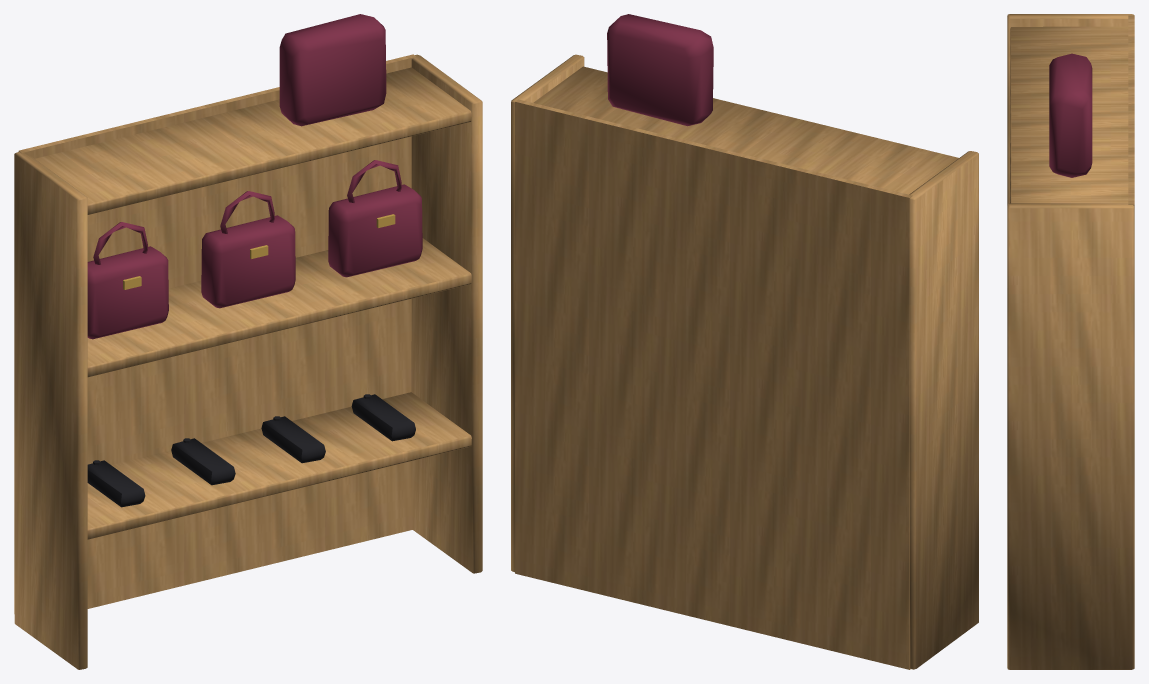
File: prateleira-de-bolsas-leve.glb
3 renders of one model, left to right at view 1: azimuth 30°, elevation 25°; view 2: azimuth 150°, elevation 25°; view 3: azimuth 270°, elevation 25°, orthographic.
Parts seen in each view (by area): view 1: fundo, lateral, lateral.001, tabua.002, tabua, tabua.001, bolsa-grande, bolsa.002, bolsa.001, bolsa, sapato.001, sapato.002 (+2 smaller); view 2: fundo, lateral, tabua.002, bolsa-grande, lateral.001; view 3: lateral.001, tabua.002, bolsa-grande, lateral, fundo.
Boxes of the visible parts, x1,y1,x2,y2 form: fundo: [18, 54, 416, 608]; lateral: [14, 151, 87, 669]; lateral.001: [411, 54, 482, 573]; tabua.002: [35, 67, 471, 214]; tabua: [87, 392, 471, 539]; tabua.001: [87, 238, 471, 377]; bolsa-grande: [279, 14, 386, 126]; bolsa.002: [328, 184, 422, 277]; bolsa.001: [201, 215, 295, 308]; bolsa: [87, 246, 168, 339]; sapato.001: [171, 438, 235, 485]; sapato.002: [261, 416, 325, 463]; fundo: [515, 99, 912, 669]; lateral: [909, 151, 978, 669]; tabua.002: [533, 66, 958, 194]; bolsa-grande: [607, 14, 713, 126]; lateral.001: [511, 54, 584, 572]; lateral.001: [1007, 203, 1134, 669]; tabua.002: [1010, 26, 1128, 203]; bolsa-grande: [1049, 53, 1092, 177]; lateral: [1007, 14, 1133, 204]; fundo: [1128, 15, 1134, 668].
Bounding box in the file's own units: 1.44 × 1.87 × 0.3987.
Materials: 4 (1 with a texture image).
